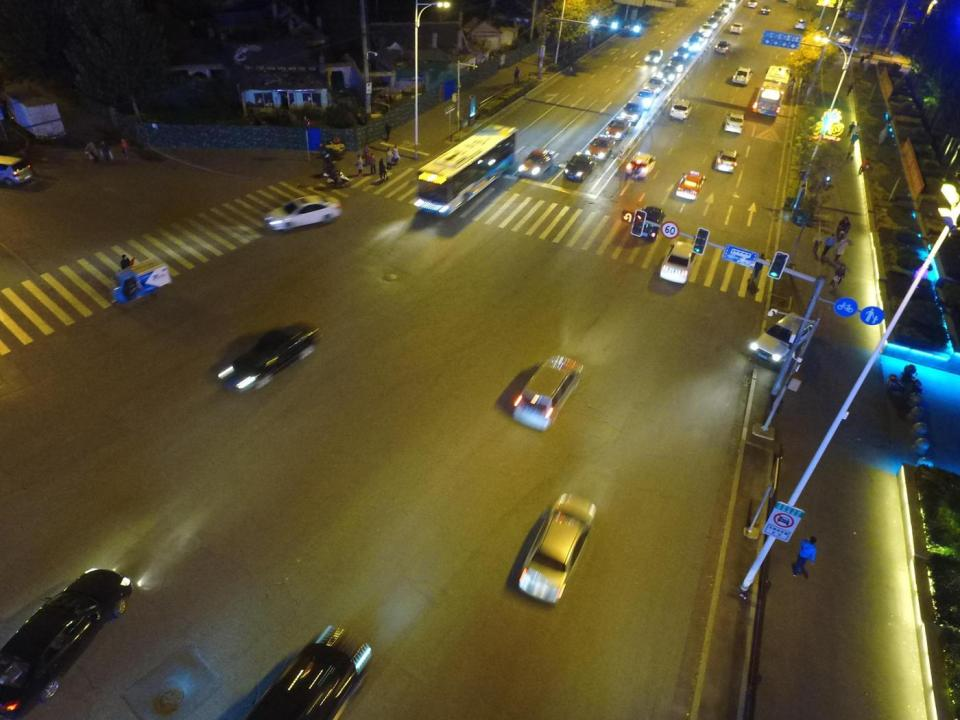bus: (417, 121, 518, 216), (759, 62, 792, 121)
car: (1, 564, 133, 715), (243, 623, 374, 720), (512, 487, 598, 608), (212, 324, 321, 390), (514, 349, 586, 435), (748, 312, 811, 366), (266, 193, 341, 229), (660, 240, 696, 282), (631, 203, 666, 243), (624, 147, 660, 184), (0, 153, 36, 189), (518, 145, 556, 179), (562, 148, 596, 185), (674, 167, 705, 200), (711, 148, 740, 178), (587, 134, 616, 160), (606, 114, 632, 140), (668, 96, 694, 120), (724, 108, 745, 134), (640, 43, 664, 65), (672, 41, 694, 63), (635, 87, 658, 108), (643, 74, 666, 95), (731, 64, 752, 86), (660, 63, 678, 85), (669, 54, 690, 72), (685, 32, 704, 50), (729, 20, 745, 36), (699, 22, 715, 38), (715, 40, 732, 55), (704, 15, 722, 29), (790, 19, 808, 30), (716, 3, 730, 16), (709, 9, 724, 21), (759, 2, 770, 16), (723, 0, 738, 8), (746, 0, 758, 8)
van: (619, 94, 647, 126), (837, 26, 857, 50)
